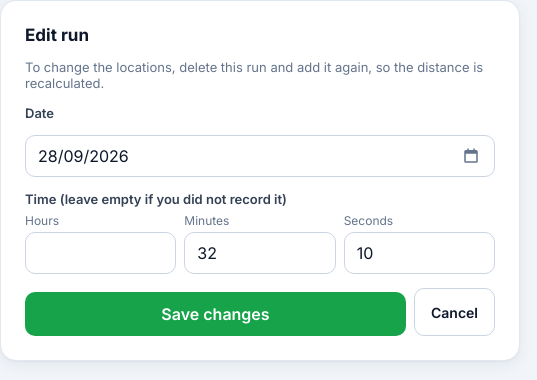
Test: EditRunForm › needs a date, because a saved run always has one
Clear the field labelled "Date" at (260, 156), box 25,135 -> 495,177
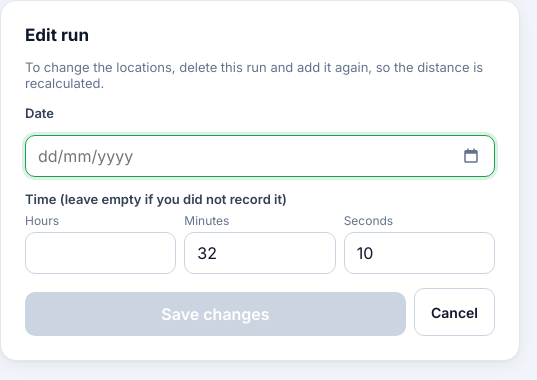
Check: the button "Save changes" is disabled, box 25,292 -> 406,336
